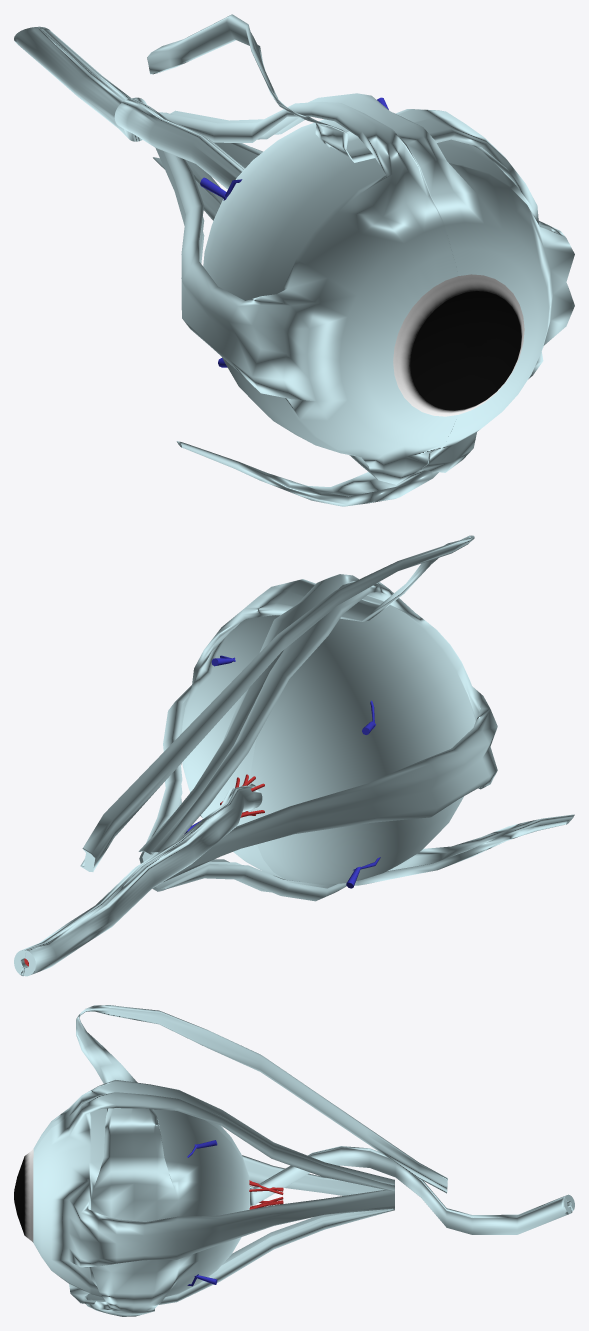
The model's file is ojo.fbx.
3 views of the same model, one above another, from view 1: azimuth 30°, elevation 25°; view 2: azimuth 150°, elevation 25°; view 3: azimuth 270°, elevation 25° (orthographic). The views are drawn at different scales.
Parts seen in each view (by area): view 1: sclera_right, Sclera_Left, Cornea_Whole; view 2: sclera_right, Sclera_Left; view 3: Sclera_Left, sclera_right, Cornea_Whole.
Boxes of the visible parts, box(x1,y1,x2,y2) form: sclera_right: box(14, 27, 458, 484); Sclera_Left: box(38, 14, 574, 506); Cornea_Whole: box(393, 274, 524, 416); sclera_right: box(23, 582, 497, 976); Sclera_Left: box(14, 535, 574, 976); Sclera_Left: box(33, 1005, 572, 1316); sclera_right: box(33, 1080, 574, 1264); Cornea_Whole: box(14, 1149, 33, 1242).
Size of the model in its own units: 331 by 334 by 635.
